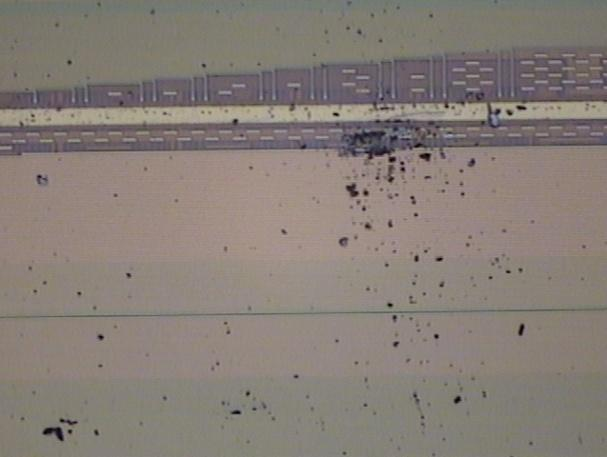PO CONTAMINATION: (2, 1, 607, 457)
